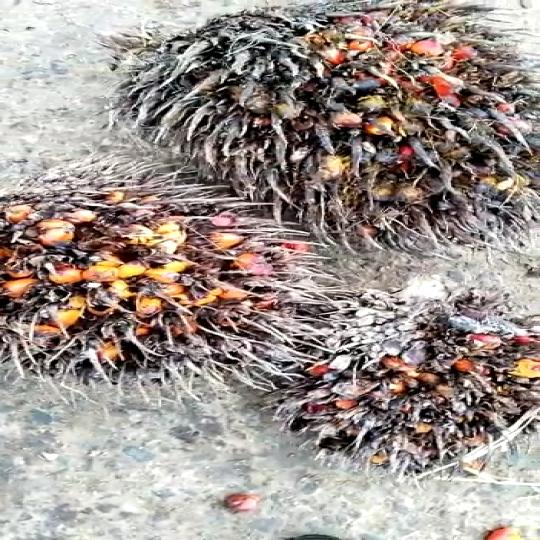terlalu masak: (111, 0, 512, 224), (0, 182, 294, 386), (247, 299, 540, 460)
